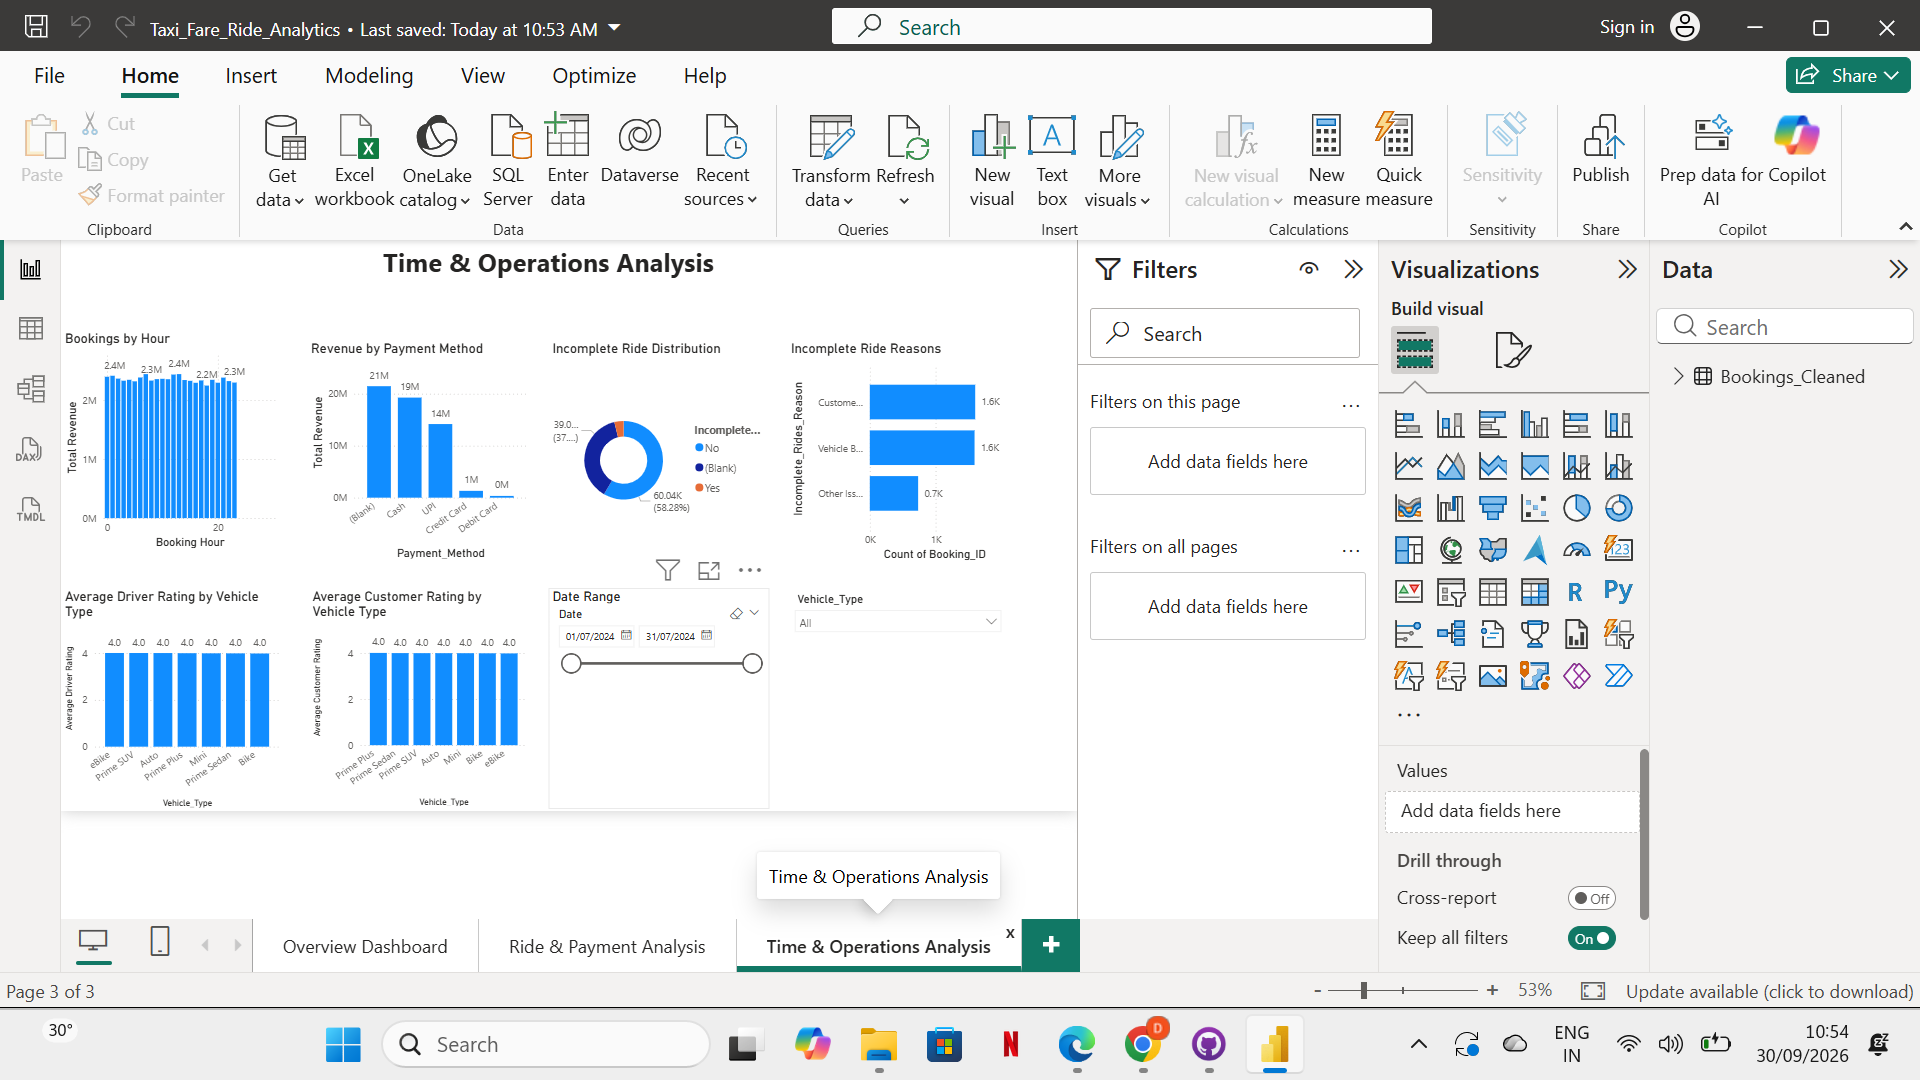

What the dashboard file says about the page in this screenshot:
{"tool":"powerbi","page":{"name":"Time & Operations Analysis","canvas":[1280,720],"ordinal":2},"visuals":[{"type":"clusteredColumnChart","title":"Bookings by Hour","fields":{"Category":["Bookings_Cleaned.Booking Hour"],"Y":["Bookings_Cleaned.Total Revenue"]},"box":[0,113.4,279.7,279.7],"z":0},{"type":"clusteredColumnChart","title":"Revenue by Payment Method","fields":{"Category":["Bookings_Cleaned.Payment_Method"],"Y":["Bookings_Cleaned.Total Revenue"]},"box":[309.9,126.6,281.6,279.7],"z":1000},{"type":"donutChart","title":"Incomplete Ride Distribution","fields":{"Category":["Bookings_Cleaned.Incomplete_Rides"],"Y":["CountNonNull(Bookings_Cleaned.Booking_ID)"]},"box":[614.2,126.6,279.7,281.6],"z":2000},{"type":"clusteredBarChart","title":"Incomplete Ride Reasons","fields":{"Category":["Bookings_Cleaned.Incomplete_Rides_Reason"],"Y":["CountNonNull(Bookings_Cleaned.Booking_ID)"]},"box":[914.7,126.6,279.7,281.6],"z":3000},{"type":"clusteredColumnChart","title":"Average Driver Rating by Vehicle Type","fields":{"Category":["Bookings_Cleaned.Vehicle_Type"],"Y":["Bookings_Cleaned.Average Driver Rating"]},"box":[0,438.4,279.7,281.6],"z":4000},{"type":"clusteredColumnChart","title":"Average Customer Rating by Vehicle Type","fields":{"Category":["Bookings_Cleaned.Vehicle_Type"],"Y":["Bookings_Cleaned.Average Customer Rating"]},"box":[311.8,438.4,279.7,279.7],"z":5000},{"type":"slicer","title":"Date Range","fields":{"Values":["Bookings_Cleaned.Date"]},"box":[614.2,438.4,277.8,277.8],"z":6000},{"type":"slicer","fields":{"Values":["Bookings_Cleaned.Vehicle_Type"]},"box":[914.7,438.4,279.7,275.9],"z":7000},{"type":"textbox","box":[376.1,0,476.2,60.5],"z":7001}]}

Visuals, with their boxes on the page's 1280x720 design canvas (x1, y1, x2, y2). These are canvas units, not pixel positions in the 1920x1080 screenshot, which may show the page scaled, cropped or inside an application window:
"Bookings by Hour" clusteredColumnChart: region(0, 113, 280, 393)
"Revenue by Payment Method" clusteredColumnChart: region(310, 127, 592, 406)
"Incomplete Ride Distribution" donutChart: region(614, 127, 894, 408)
"Incomplete Ride Reasons" clusteredBarChart: region(915, 127, 1194, 408)
"Average Driver Rating by Vehicle Type" clusteredColumnChart: region(0, 438, 280, 720)
"Average Customer Rating by Vehicle Type" clusteredColumnChart: region(312, 438, 592, 718)
"Date Range" slicer: region(614, 438, 892, 716)
slicer - Bookings_Cleaned.Vehicle_Type: region(915, 438, 1194, 714)
textbox: region(376, 0, 852, 60)
